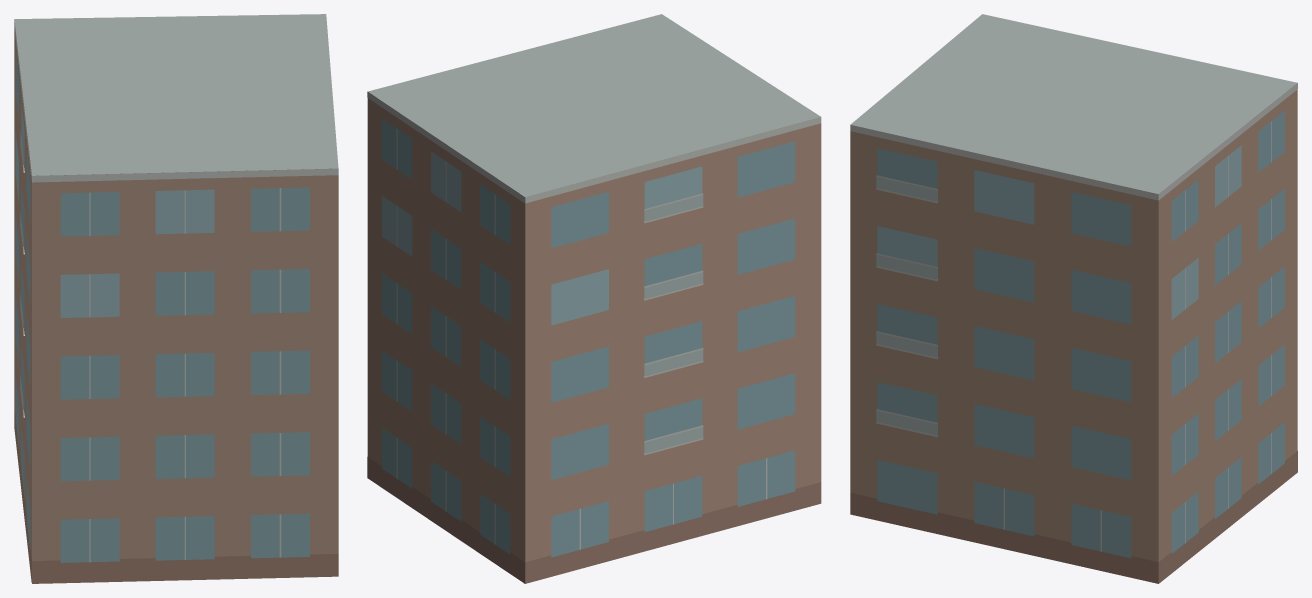
File: survey-upis-32673506.glb
The picture shows the model from 3 angles, left to right: view 1: azimuth 30°, elevation 25°; view 2: azimuth 150°, elevation 25°; view 3: azimuth 270°, elevation 25°; orthographic projection. The views are drawn at different scales.
Parts seen in each view (by area): view 1: survey-upis-32673506.tmp; view 2: survey-upis-32673506.tmp; view 3: survey-upis-32673506.tmp.
Boxes of the visible parts, box(x1,y1,x2,y2) form: survey-upis-32673506.tmp: box(14, 14, 338, 583); survey-upis-32673506.tmp: box(367, 14, 821, 583); survey-upis-32673506.tmp: box(850, 14, 1297, 583).
Size of the model in its own units: 14.88 by 15 by 15.62.
